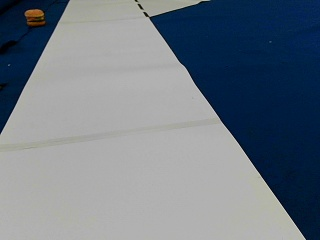burger: (24, 8, 46, 27)
